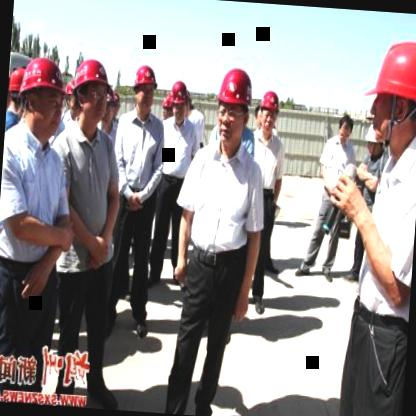head: (336, 110, 357, 149), (6, 68, 16, 119)
helmet: (366, 34, 416, 157), (18, 54, 66, 131), (213, 64, 256, 147), (71, 53, 114, 130), (130, 60, 160, 116), (257, 87, 282, 136), (164, 80, 188, 126), (103, 80, 124, 128), (364, 118, 384, 165)
